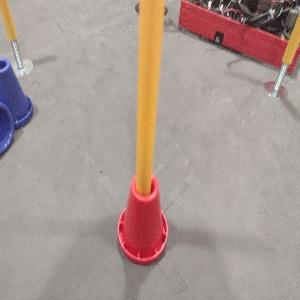Blue_1: (0, 59, 34, 128)
Red_1: (113, 172, 169, 265)
